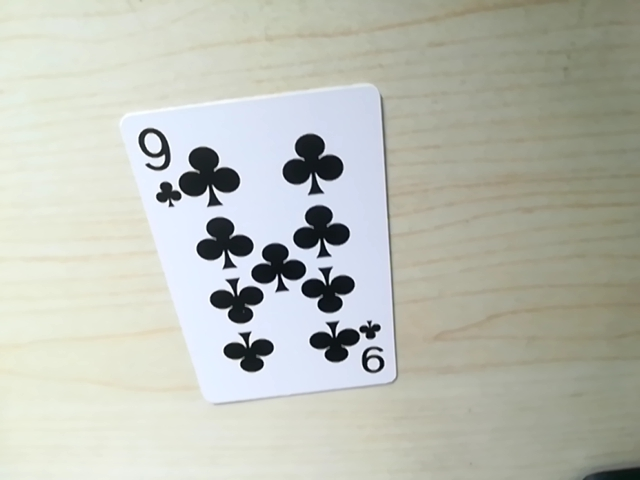mh 9: (135, 123, 177, 202), (352, 332, 391, 378)
